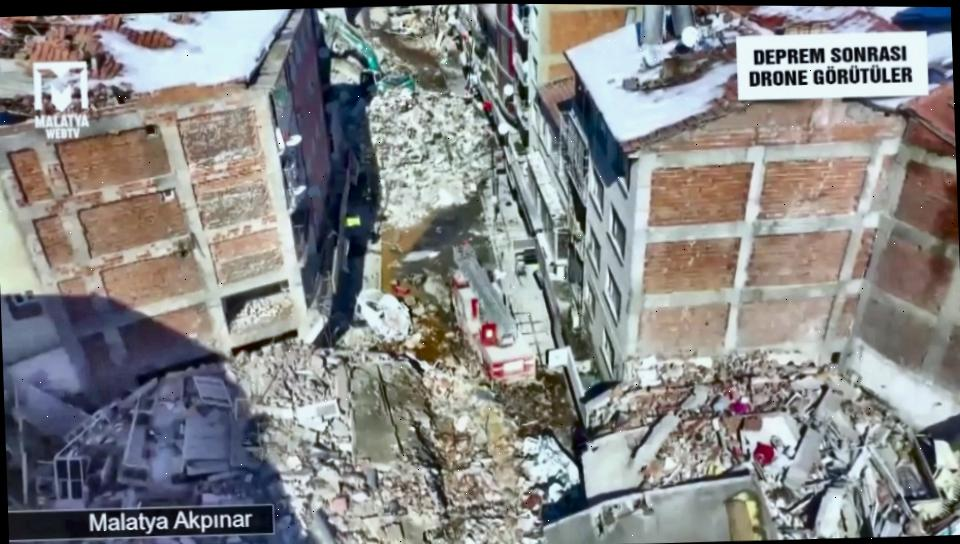kapali: (366, 265, 603, 544), (371, 64, 524, 252), (358, 5, 460, 62)
